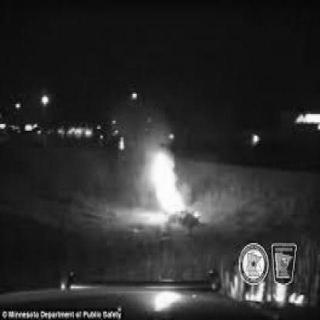Fire: (124, 134, 200, 230)
other: (148, 272, 184, 314)
